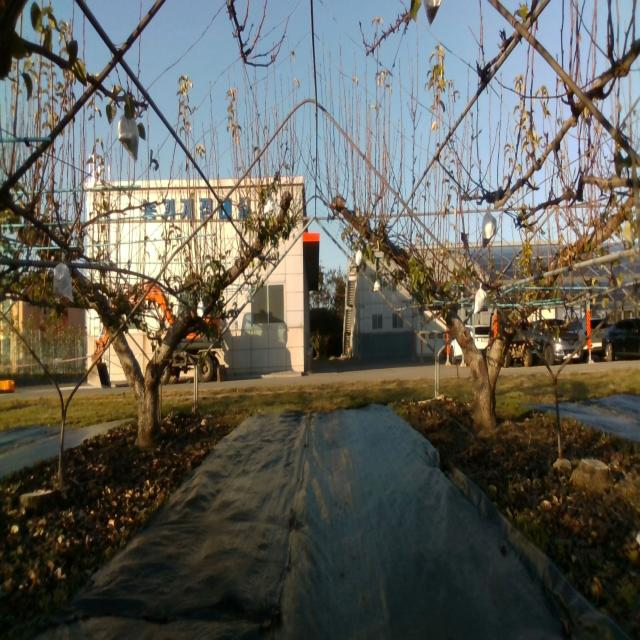pearbags: (117, 113, 140, 160), (52, 252, 71, 301), (481, 210, 497, 249), (474, 282, 488, 312), (266, 196, 276, 213)
